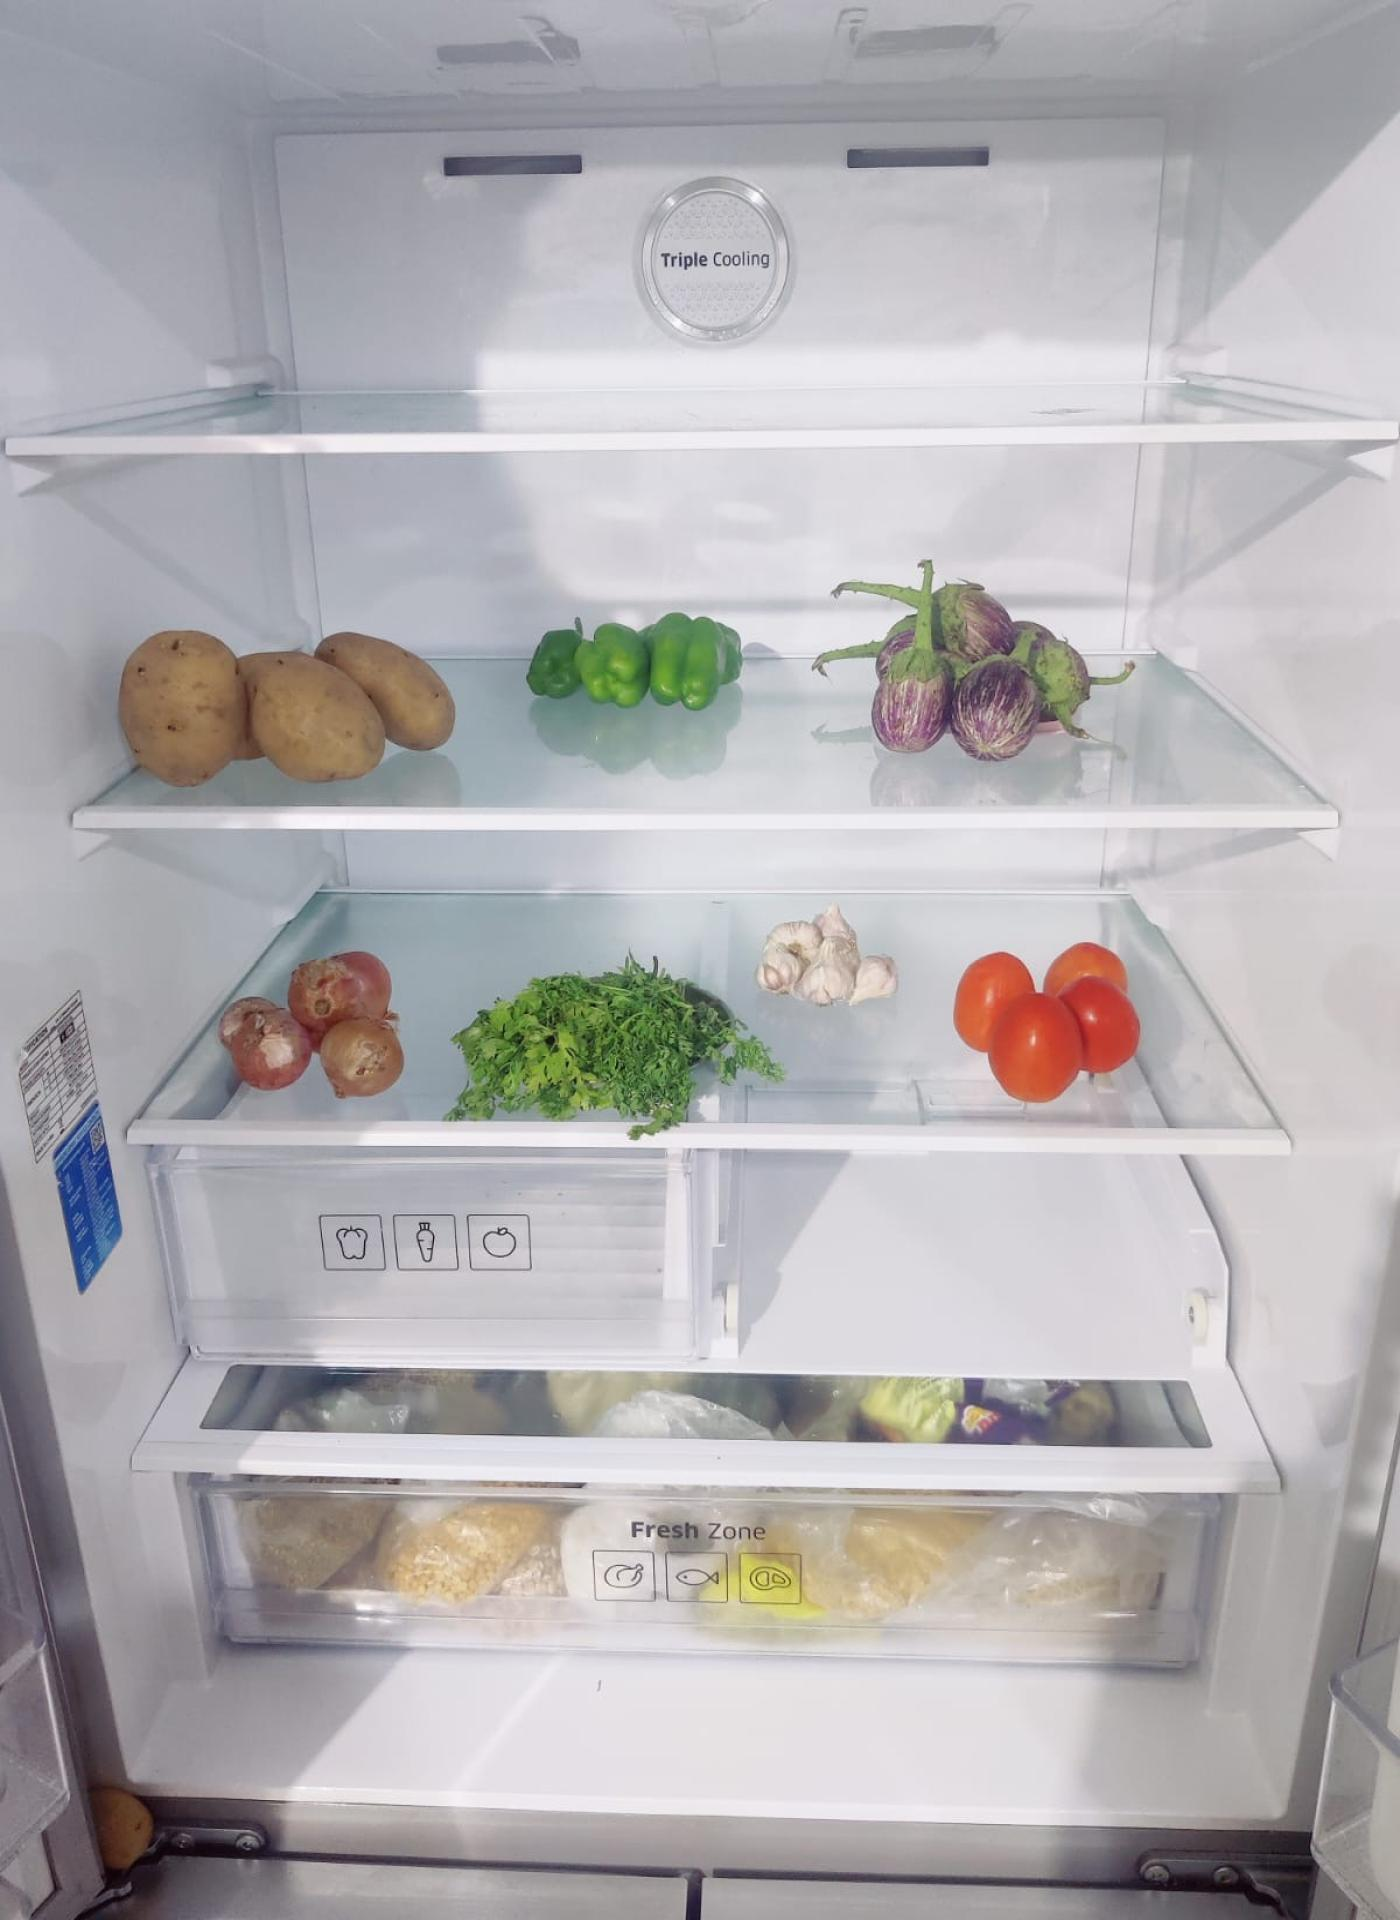brinjal: (872, 580, 1084, 757)
capsicum: (531, 607, 750, 713)
coriander: (459, 963, 775, 1120)
garlic: (759, 909, 899, 1014)
onion: (224, 950, 409, 1094)
potato: (121, 617, 459, 777)
tomato: (959, 942, 1150, 1105)
